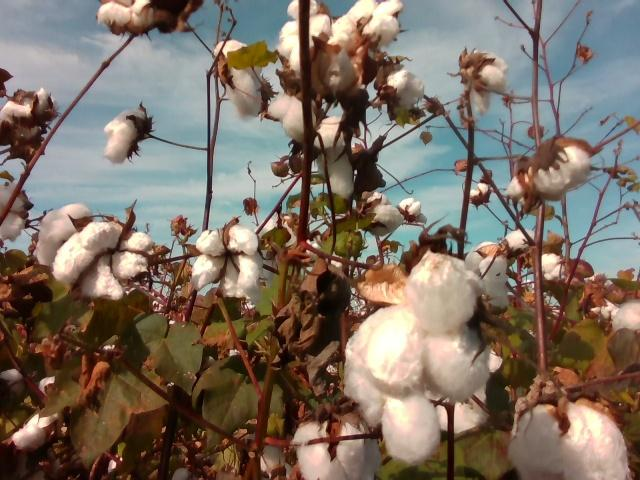cotton_ready: (343, 251, 489, 465), (508, 403, 630, 480), (54, 222, 149, 299), (426, 340, 504, 433), (191, 225, 260, 299), (293, 421, 366, 480), (214, 39, 263, 119), (280, 0, 331, 70), (326, 0, 402, 46), (34, 203, 90, 265), (315, 115, 354, 199), (466, 240, 509, 311), (529, 145, 591, 193), (465, 52, 511, 115), (97, 0, 170, 38), (104, 107, 147, 166), (268, 93, 316, 143), (10, 405, 62, 451), (0, 89, 58, 127), (365, 191, 406, 236), (322, 50, 357, 102), (0, 185, 29, 242), (385, 71, 426, 108), (0, 114, 42, 144), (259, 445, 293, 480), (507, 169, 533, 207), (504, 228, 537, 252), (400, 196, 428, 224), (613, 303, 640, 330), (540, 253, 564, 281), (470, 184, 489, 205)
